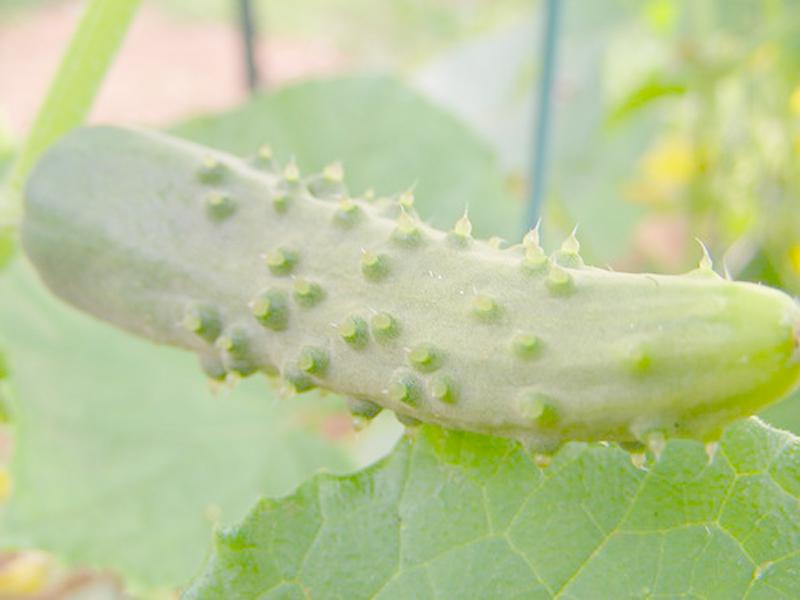Cucumber: (17, 125, 794, 454)
